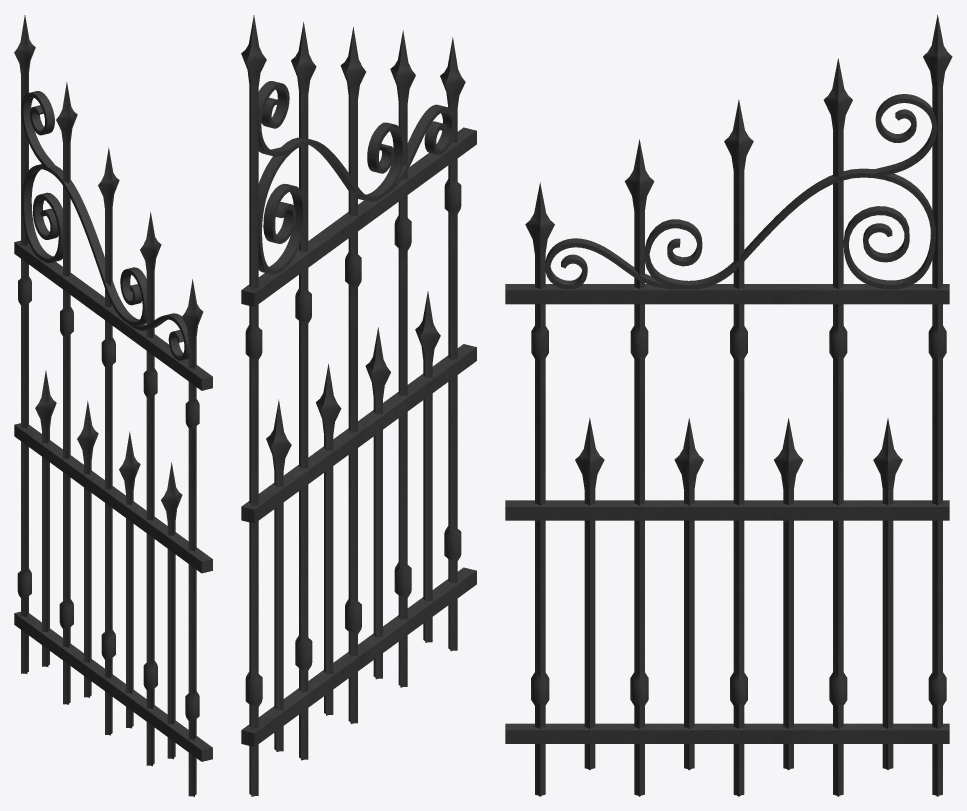
Rendered from SM_GateA.fbx.
3 renders of one model, left to right at view 1: azimuth 30°, elevation 25°; view 2: azimuth 150°, elevation 25°; view 3: azimuth 270°, elevation 25°, orthographic. The views are drawn at different scales.
Visible parts, largest first — view 1: SM_GateA_LOD0; view 2: SM_GateA_LOD0; view 3: SM_GateA_LOD0.
Part boxes in pixels (x1=…): SM_GateA_LOD0: x1=14, y1=15, x2=212, y2=796; SM_GateA_LOD0: x1=241, y1=15, x2=476, y2=796; SM_GateA_LOD0: x1=505, y1=15, x2=952, y2=796.
Bounding box in the file's own units: 5.99 × 90 × 173.
1 material, 1 textured.
